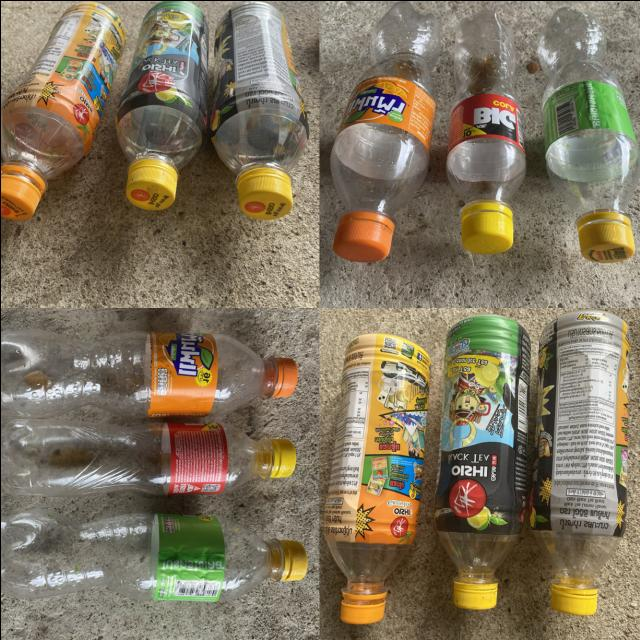plastik: (529, 308, 629, 614), (324, 333, 429, 623), (330, 0, 440, 261), (433, 315, 530, 608), (0, 509, 307, 600), (0, 0, 124, 219), (0, 328, 296, 417), (536, 7, 639, 261), (0, 419, 295, 495), (209, 0, 308, 218), (115, 0, 208, 210), (445, 9, 525, 253)
